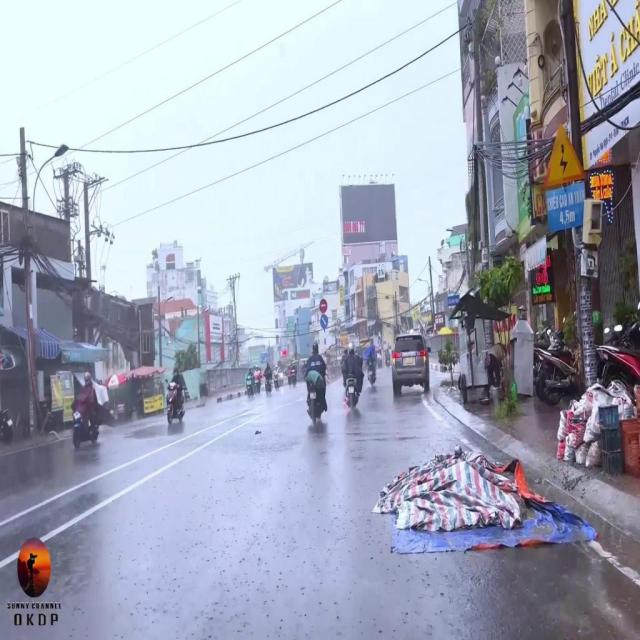cam_xe_di_nguoc_chieu: (320, 300, 328, 313)
huong_phai_di_vuot_chuong_ngai_vat_phai: (320, 315, 328, 330)
khac: (543, 120, 587, 190)
